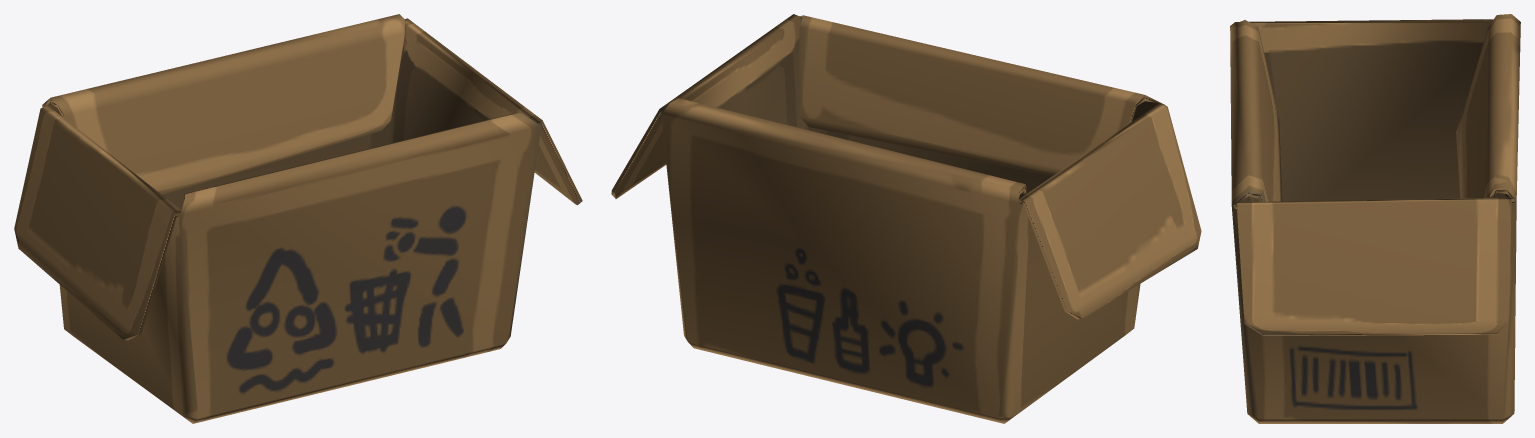
File: cardboard_box.gltf
3 renders of one model, left to right at view 1: azimuth 30°, elevation 25°; view 2: azimuth 150°, elevation 25°; view 3: azimuth 270°, elevation 25°, orthographic. The views are drawn at different scales.
Parts seen in each view (by area): view 1: Cube.020; view 2: Cube.020; view 3: Cube.020.
Part boxes in pixels (left/top/right/bottom): Cube.020: left=14, top=14, right=582, bottom=423; Cube.020: left=611, top=14, right=1201, bottom=423; Cube.020: left=1230, top=14, right=1520, bottom=423.
Size of the model in its own units: 1.42 by 0.7039 by 0.7523.
2 materials, 2 textured.
